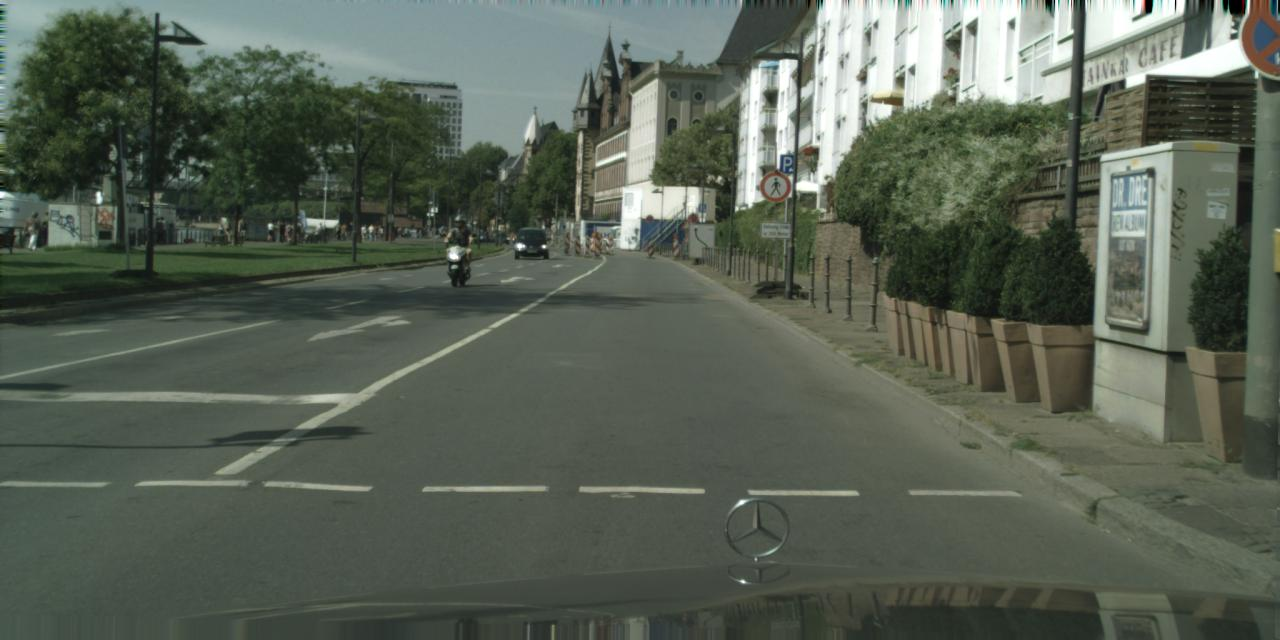ped: (447, 214, 471, 275), (26, 210, 42, 250), (40, 210, 54, 248), (154, 217, 170, 244), (362, 224, 384, 242), (336, 221, 353, 241), (280, 220, 292, 244), (216, 223, 233, 235), (266, 220, 276, 240), (394, 226, 409, 239), (313, 221, 321, 243)
